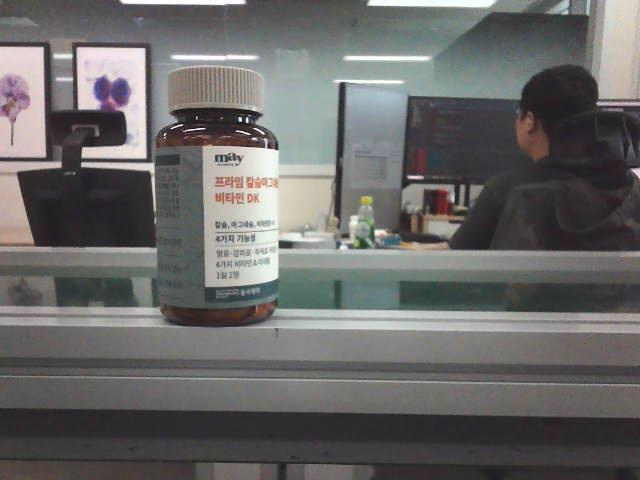labeled: (149, 62, 288, 329)
